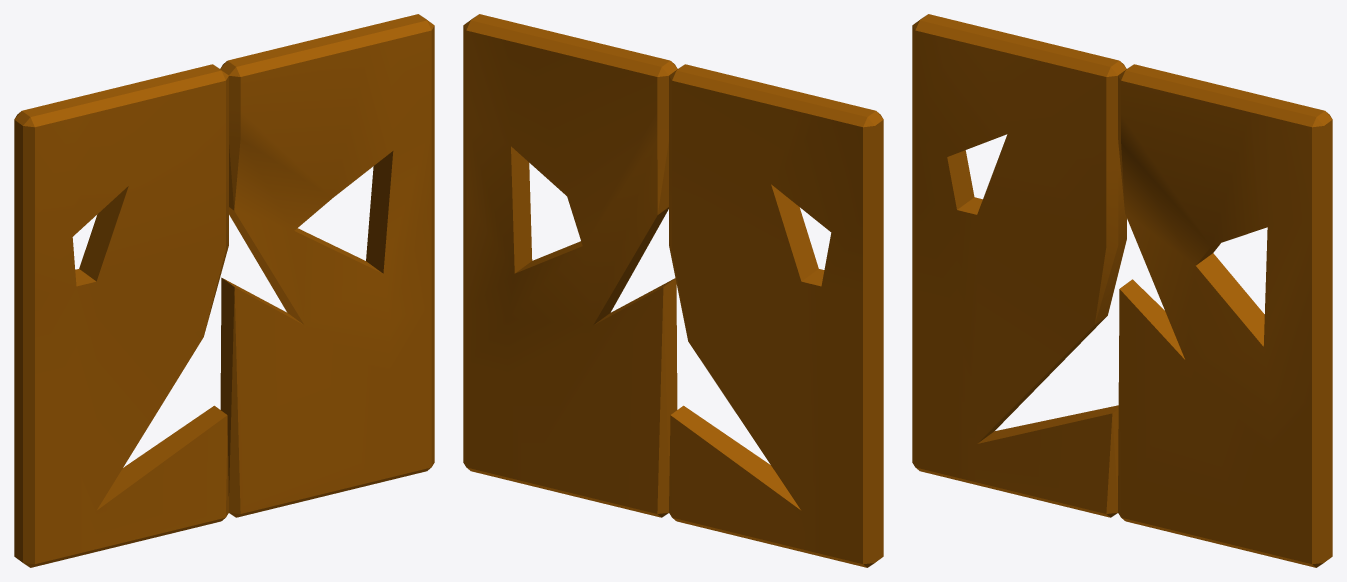
Rendered from door.fbx.
3 views of the same model, side by side, from view 1: azimuth 30°, elevation 25°; view 2: azimuth 150°, elevation 25°; view 3: azimuth 330°, elevation 25° (orthographic).
Visible parts, largest first — view 1: left_door, right_door; view 2: left_door, right_door; view 3: right_door, left_door.
Part boxes in pixels (x1=…): left_door: x1=14, y1=64, x2=228, y2=567; right_door: x1=220, y1=14, x2=434, y2=517; left_door: x1=669, y1=64, x2=883, y2=567; right_door: x1=463, y1=14, x2=677, y2=517; right_door: x1=1118, y1=64, x2=1332, y2=567; left_door: x1=912, y1=14, x2=1126, y2=517.
Bounding box in the file's own units: 4.89 × 5.12 × 0.6384.
